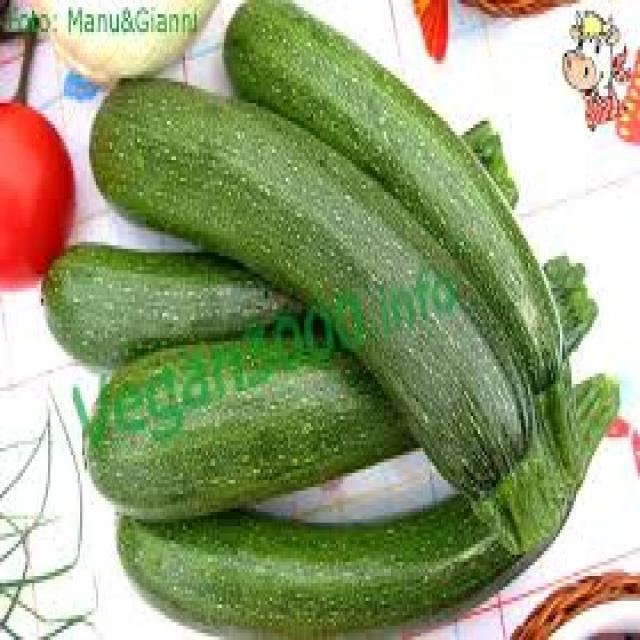Zucchini: (129, 500, 538, 640)
